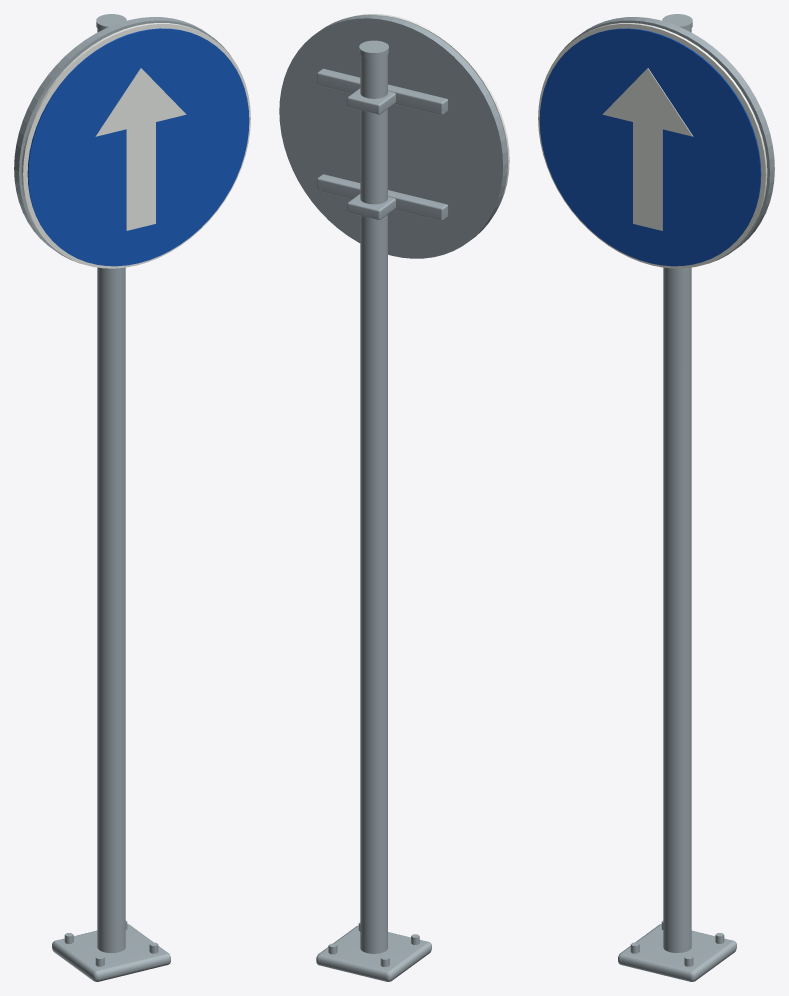
The model's file is DS_Sign_Straight.fbx.
3 views of the same model, side by side, from view 1: azimuth 30°, elevation 25°; view 2: azimuth 150°, elevation 25°; view 3: azimuth 330°, elevation 25° (orthographic). The views are drawn at different scales.
Visible parts, largest first — view 1: Face_Field.009, Post.009, DirectionArrow, BasePlate.009, Face_Border.009, Plate_Back.009; view 2: Plate_Back.009, Post.009, BasePlate.009, RearRail.019, RearRail.018, PostClamp.019, PostClamp.018, Face_Border.009; view 3: Face_Field.009, Post.009, DirectionArrow, BasePlate.009, Face_Border.009, Plate_Back.009.
Boxes of the visible parts, box(x1,y1,x2,y2) form: Face_Field.009: box(27, 28, 249, 266); Post.009: box(97, 28, 125, 952); DirectionArrow: box(95, 68, 186, 230); BasePlate.009: box(52, 924, 170, 981); Face_Border.009: box(21, 23, 250, 268); Plate_Back.009: box(14, 17, 230, 263); Plate_Back.009: box(279, 15, 507, 258); Post.009: box(360, 55, 387, 953); BasePlate.009: box(316, 925, 431, 981); RearRail.019: box(317, 68, 448, 115); RearRail.018: box(317, 174, 448, 220); PostClamp.019: box(347, 88, 395, 114); PostClamp.018: box(347, 194, 395, 219); Face_Border.009: box(354, 14, 509, 212); Face_Field.009: box(539, 28, 761, 266); Post.009: box(663, 28, 691, 952); DirectionArrow: box(602, 68, 693, 230); BasePlate.009: box(618, 924, 736, 981); Face_Border.009: box(538, 23, 767, 268); Plate_Back.009: box(558, 17, 774, 263).
Bounding box in the file's own units: 71 × 281 × 27.9.
